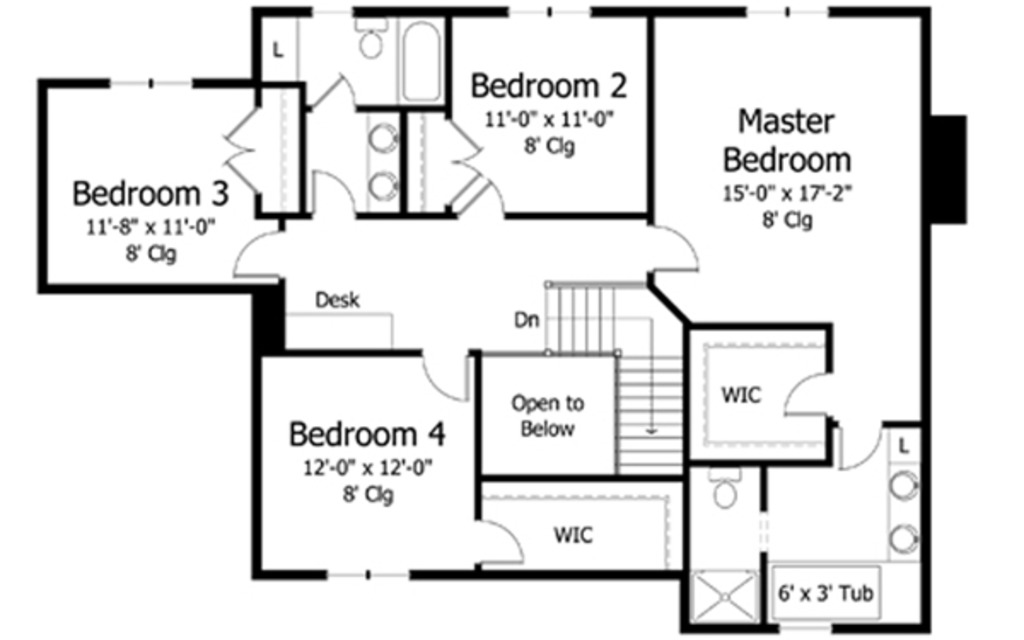door: (432, 117, 479, 212), (414, 348, 483, 408), (219, 104, 260, 196), (230, 228, 289, 286), (475, 514, 533, 570), (309, 163, 361, 222), (650, 221, 710, 271), (779, 368, 834, 422), (458, 176, 516, 225), (836, 426, 884, 476), (312, 69, 356, 110)
large_sink: (353, 18, 395, 66), (701, 470, 744, 516)
small_sink: (362, 112, 399, 216), (889, 464, 923, 558)
stairs: (534, 274, 680, 475)
tub: (397, 16, 444, 106)
window: (316, 560, 408, 586), (742, 4, 834, 26), (509, 3, 600, 22)
